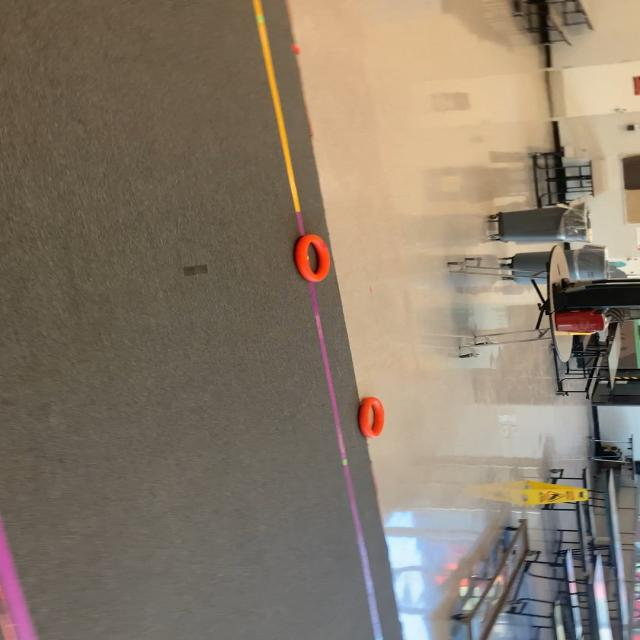notes: (293, 230, 330, 280)
